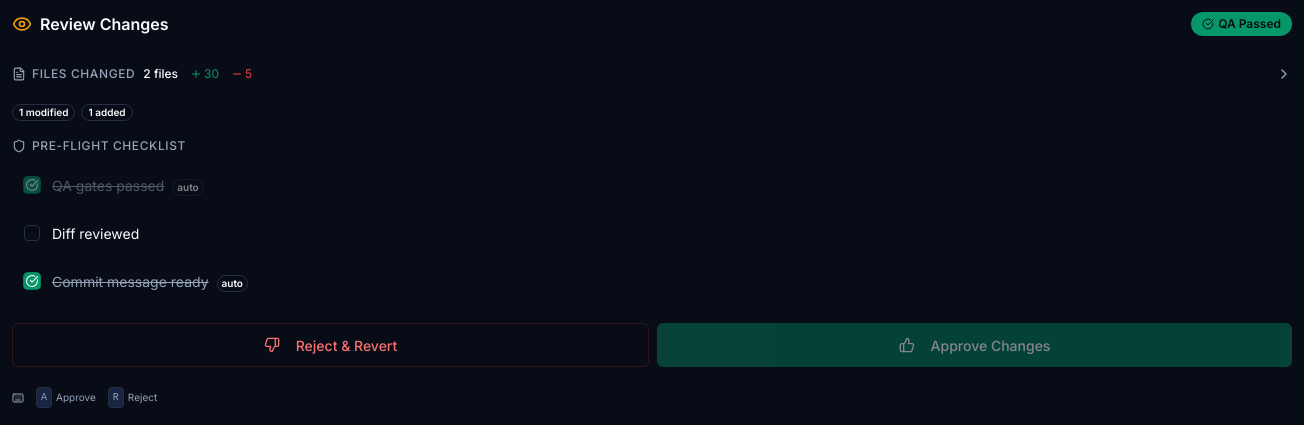
ApprovalPanel › should toggle checklist items on click
The image size is (1304, 425).
Expected: the button "Approve Changes" is disabled, [657,323,1292,367]
// Check it
Click the checkbox "Diff reviewed" at point(96, 234), box [12,211,1292,255]
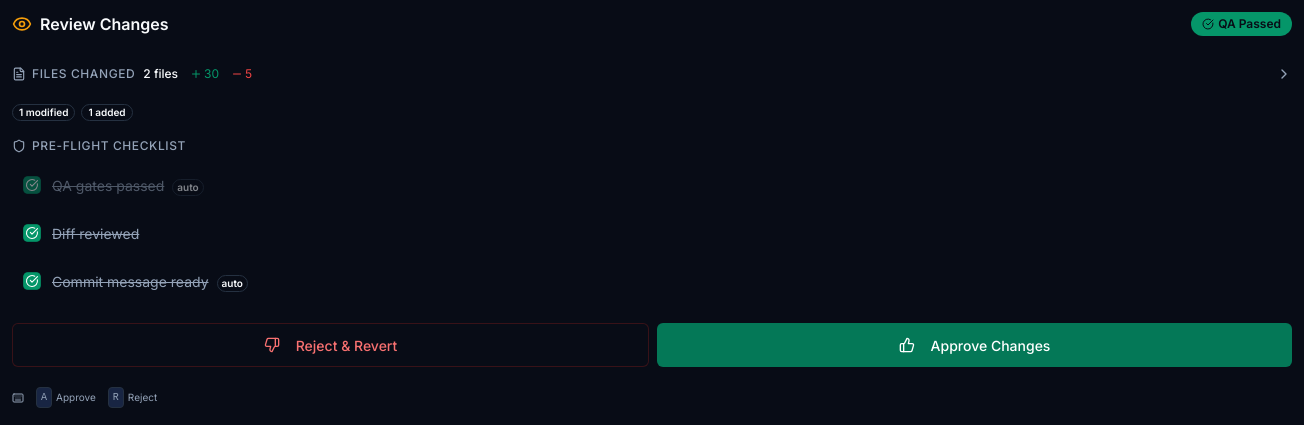
Expected: the button "Approve Changes" is enabled, [657,323,1292,367]
// Uncheck it
Click the checkbox "Diff reviewed" at point(96, 234), box [12,211,1292,255]
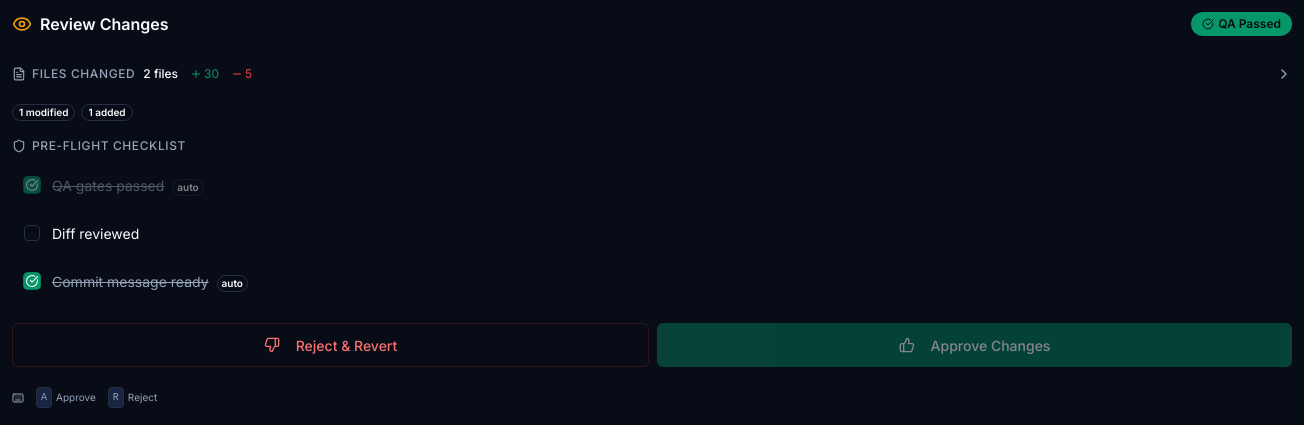
Expected: the button "Approve Changes" is disabled, [657,323,1292,367]
